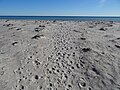human_foot_print: (35, 32, 46, 43), (37, 24, 47, 32), (81, 36, 91, 42), (82, 47, 93, 52)
